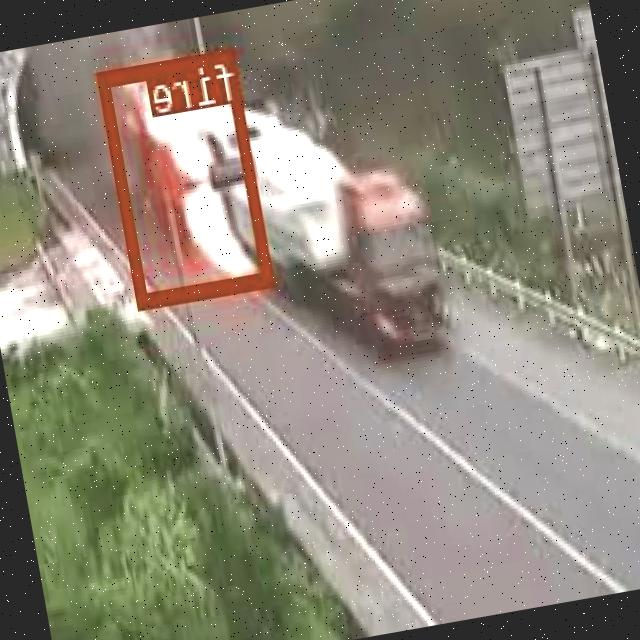fire: (98, 46, 276, 307)
